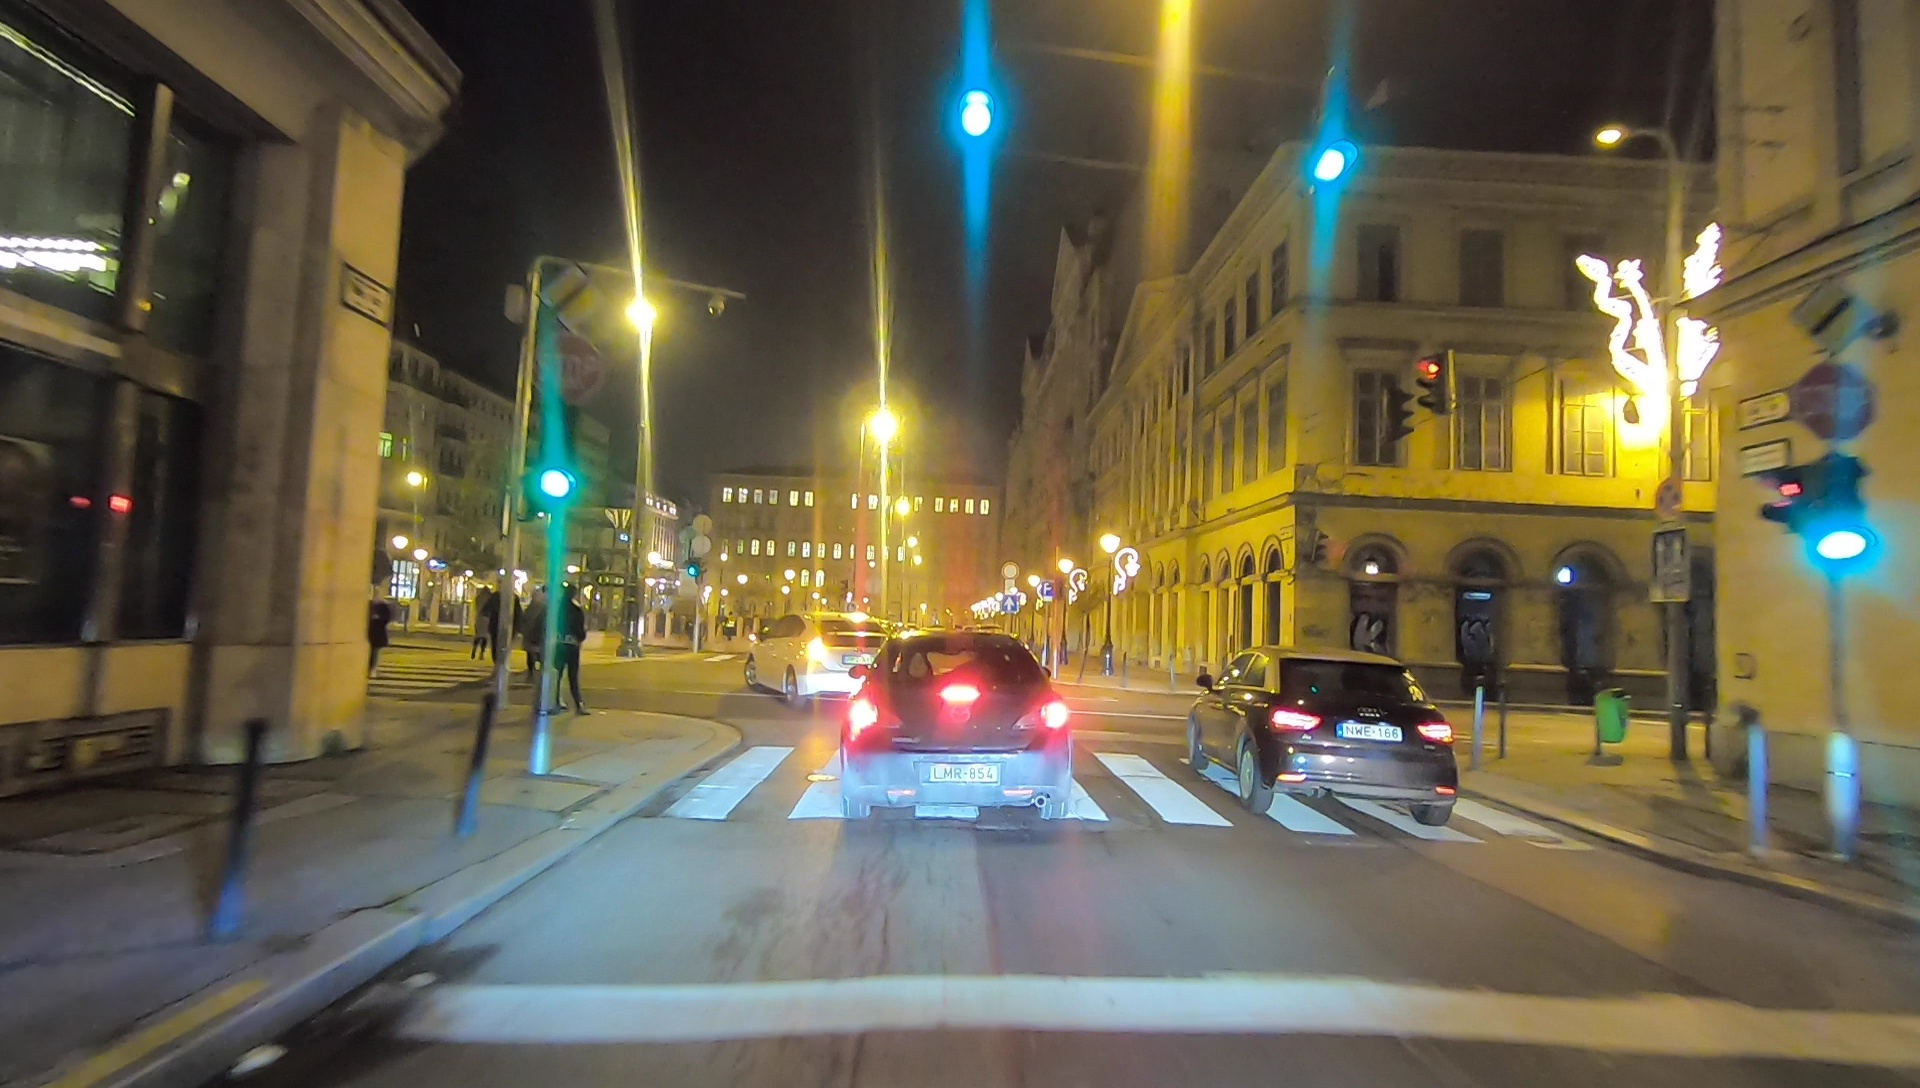person: (551, 584, 586, 711), (367, 586, 388, 678), (523, 580, 541, 682), (471, 584, 489, 663)
